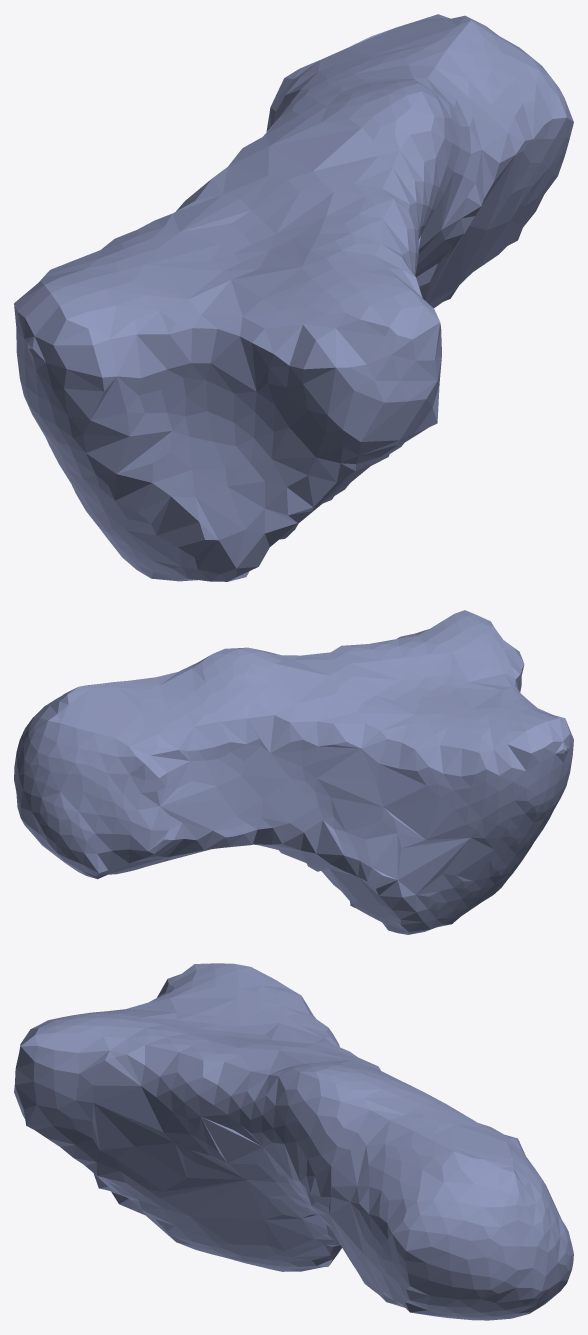
File: Model_10304_LH__Ventral_lateral_thalamic_nucleus__medial_part_(VLM).obj
3 renders of one model, top to bottom at view 1: azimuth 30°, elevation 25°; view 2: azimuth 150°, elevation 25°; view 3: azimuth 270°, elevation 25°, orthographic. The views are drawn at different scales.
Size of the model in its own units: 2.53 by 1.37 by 2.39.
